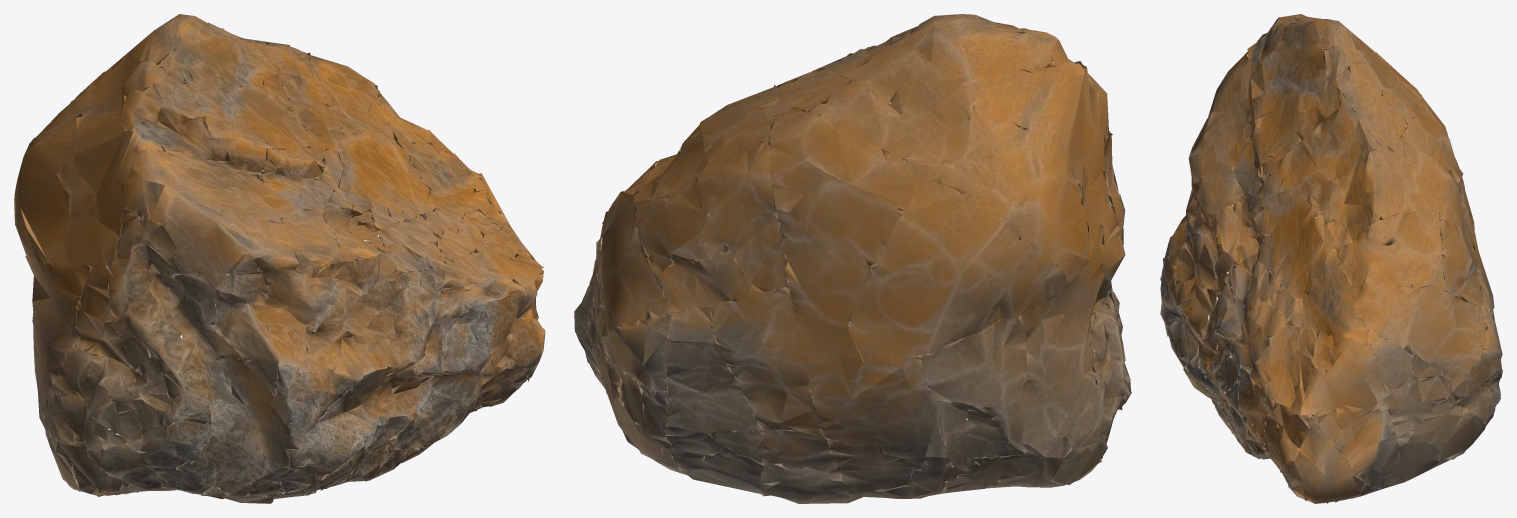
Rendered from rock_a_mobile.glb.
3 renders of one model, left to right at view 1: azimuth 30°, elevation 25°; view 2: azimuth 150°, elevation 25°; view 3: azimuth 270°, elevation 25°, orthographic. The views are drawn at different scales.
Visible parts, largest first — view 1: Mesh_0; view 2: Mesh_0; view 3: Mesh_0.
Part boxes in pixels (x1,y1,x2,y2): Mesh_0: (14, 14, 545, 503); Mesh_0: (574, 14, 1131, 503); Mesh_0: (1160, 14, 1502, 503).
Size of the model in its own units: 1.9 by 1.71 by 1.44.
Materials: 1 (1 with a texture image).
